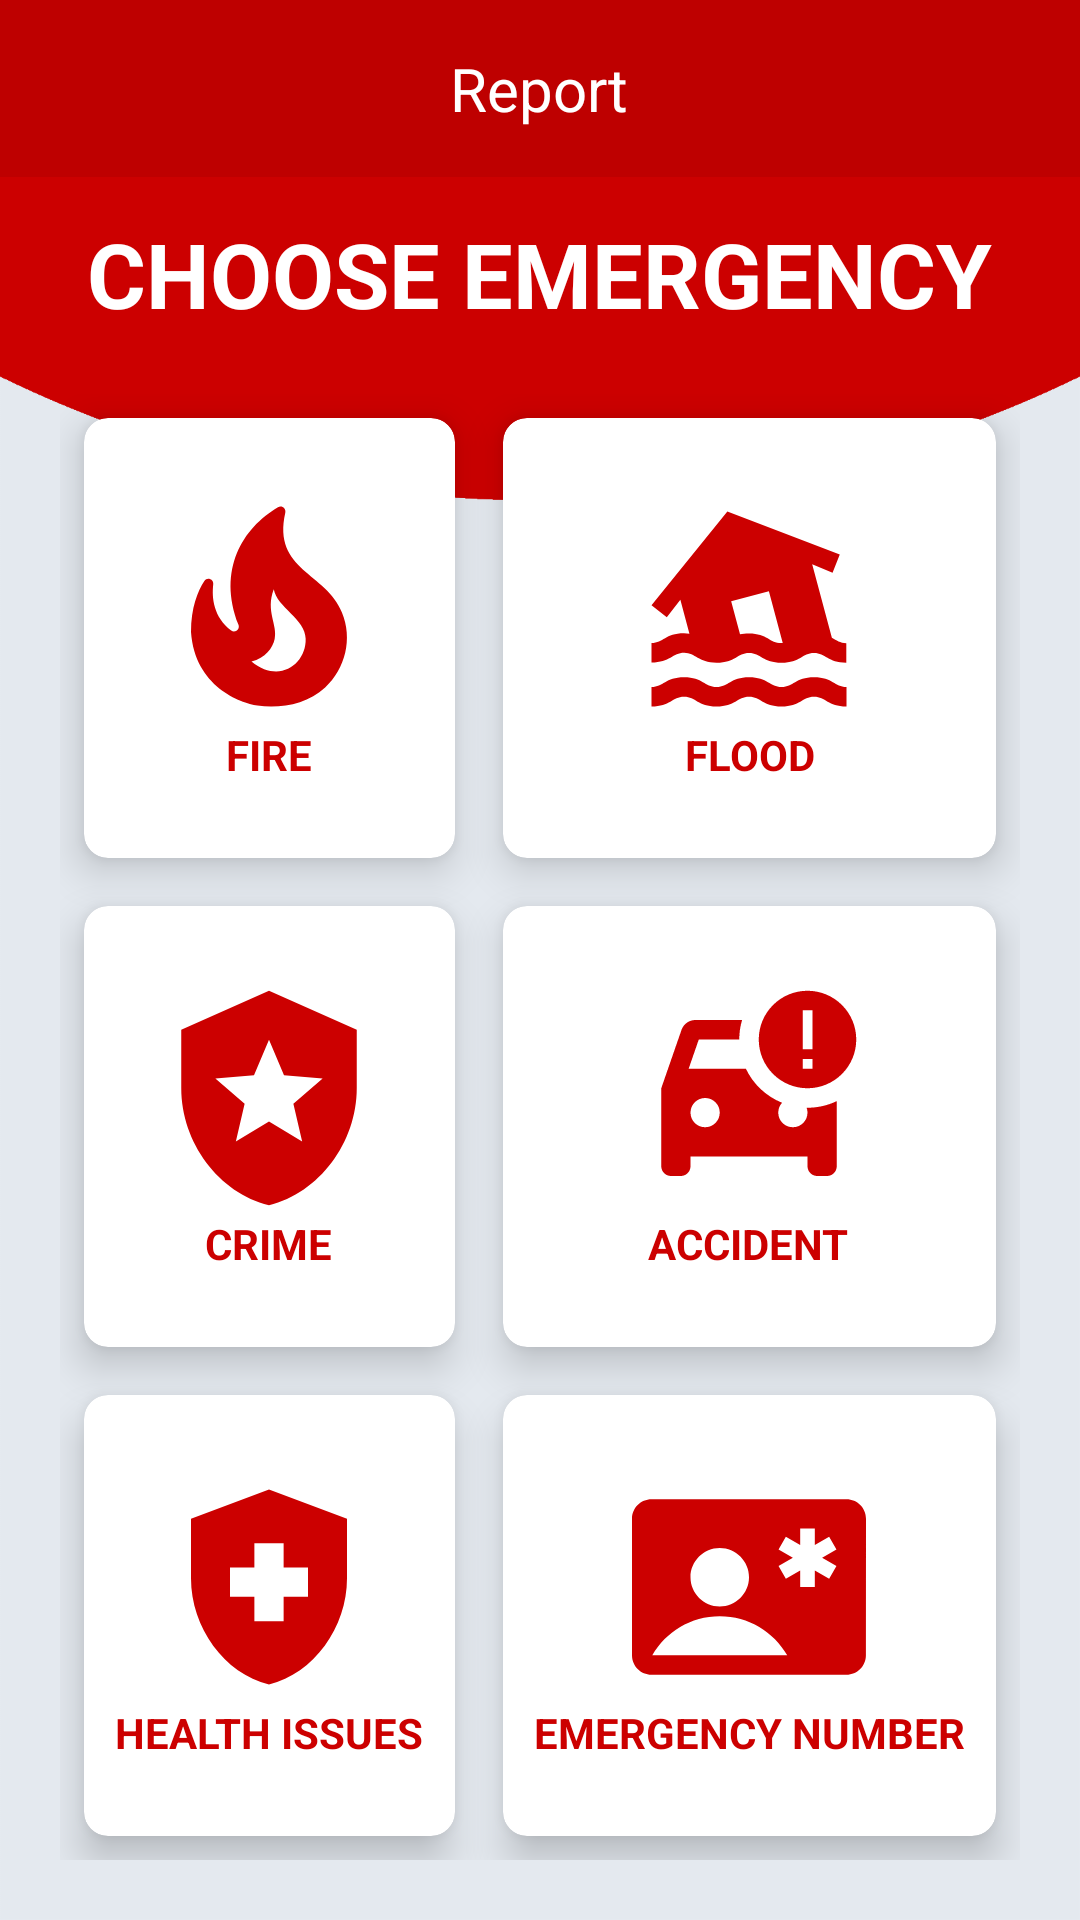

Icons on this 1080 x 1920 Android screen, each with the point to tap as [x,y]:
health and safety: [269,1587]
local police: [269,1098]
